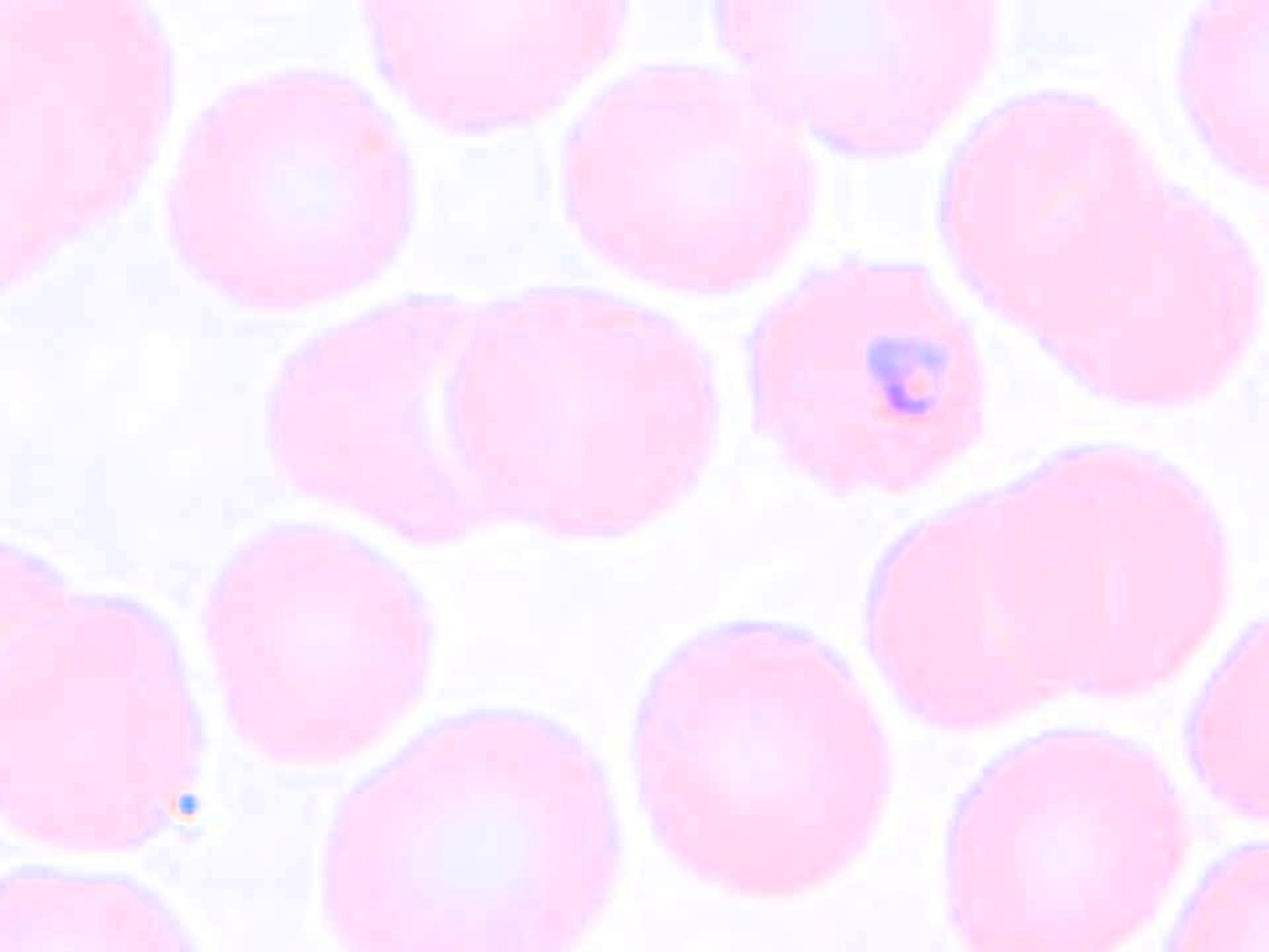Infected: (748, 262, 993, 489)
Uninfected: (324, 711, 621, 952), (441, 286, 717, 540), (635, 620, 886, 897), (560, 61, 820, 294), (164, 68, 417, 303), (266, 301, 506, 546), (869, 485, 1100, 729), (943, 726, 1186, 952), (0, 590, 200, 854), (216, 521, 430, 764), (1023, 445, 1227, 696), (937, 91, 1160, 319), (1026, 190, 1260, 397), (0, 0, 156, 287), (732, 0, 1008, 155)
